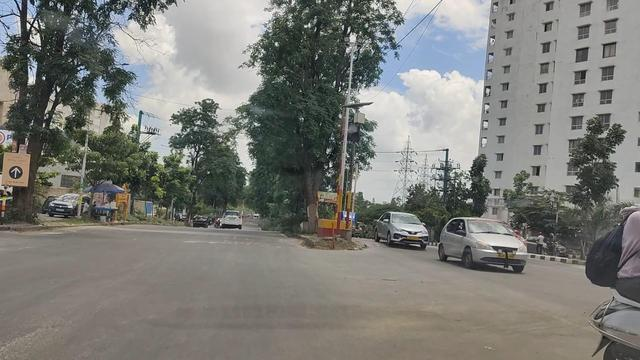LMV: (440, 218, 526, 271), (372, 211, 429, 251)
